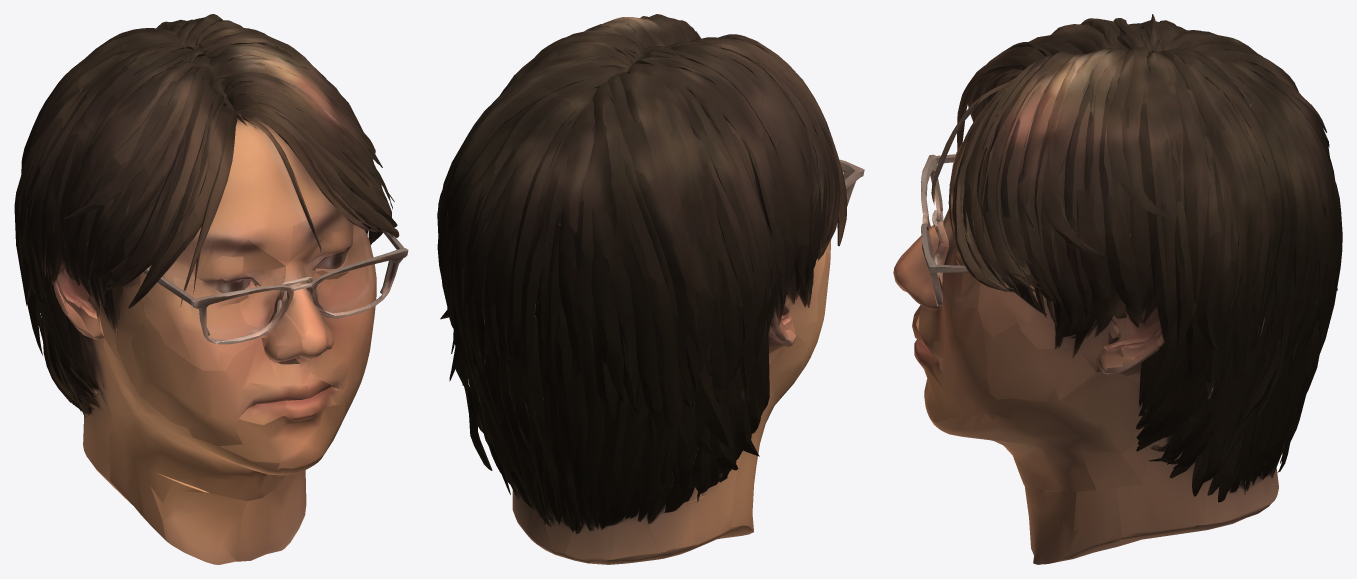
The model's file is mark.glb.
3 renders of one model, left to right at view 1: azimuth 30°, elevation 25°; view 2: azimuth 150°, elevation 25°; view 3: azimuth 270°, elevation 25°, orthographic. The views are drawn at different scales.
Size of the model in its own units: 1.27 by 1.9 by 1.52.
1 material, 1 textured.
